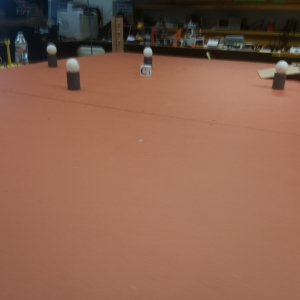obstacle: (64, 59, 80, 91), (275, 62, 287, 92), (46, 43, 57, 66), (142, 47, 153, 69)
